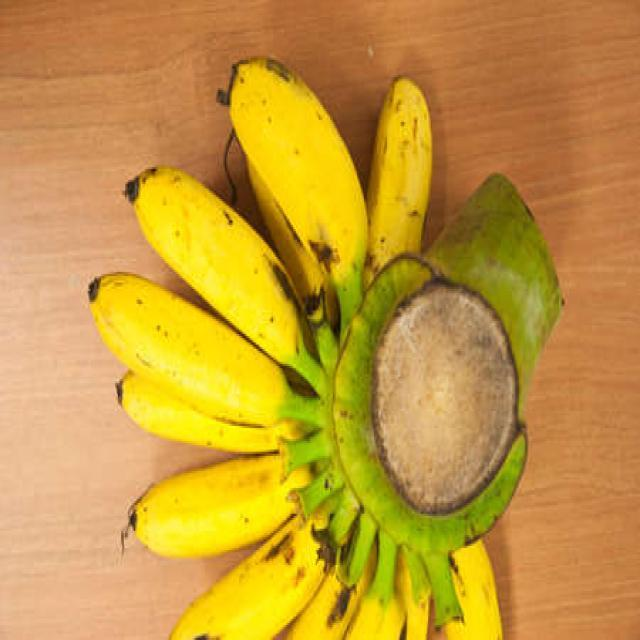banana: (82, 49, 572, 640)
